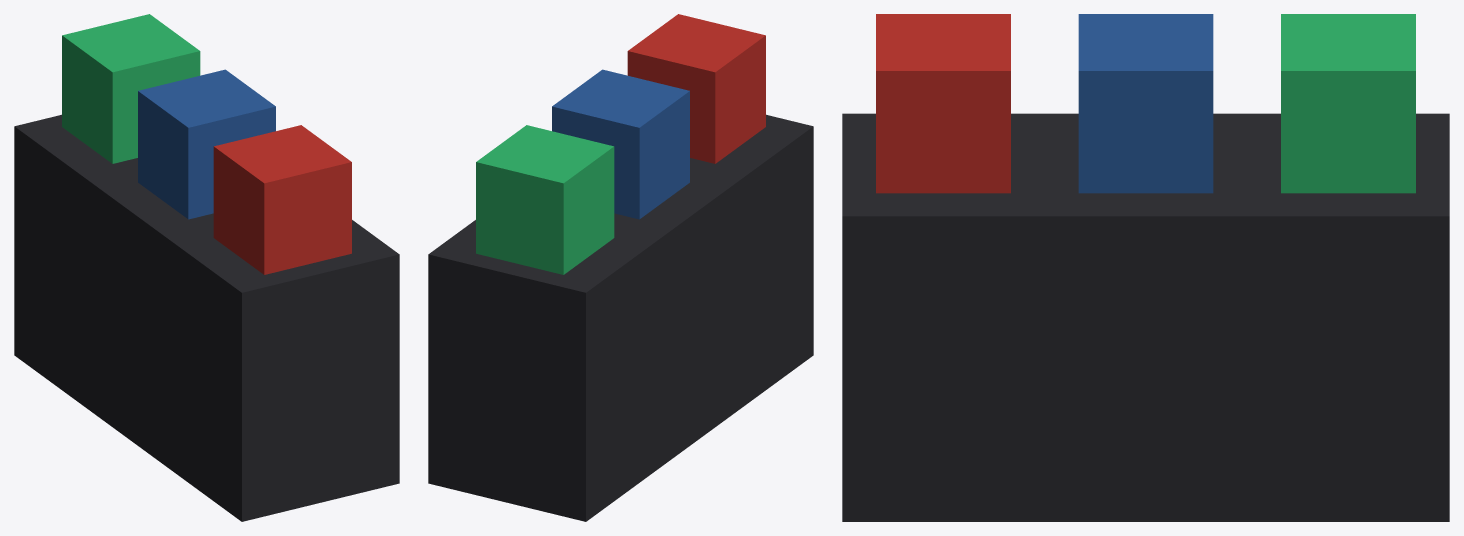
Rendered from lane_1.glb.
The picture shows the model from 3 angles, left to right: view 1: azimuth 30°, elevation 25°; view 2: azimuth 150°, elevation 25°; view 3: azimuth 270°, elevation 25°; orthographic projection. The views are drawn at different scales.
Visible parts, largest first — view 1: Box1, Box2, Box4, Box3; view 2: Box1, Box4, Box2, Box3; view 3: Box1, Box3, Box2, Box4.
Boxes of the visible parts, x1,y1,x2,y2 form: Box1: (14, 114, 399, 521); Box2: (213, 125, 351, 274); Box4: (62, 14, 200, 163); Box3: (138, 69, 275, 219); Box1: (428, 114, 813, 521); Box4: (476, 125, 614, 274); Box2: (627, 14, 765, 163); Box3: (552, 69, 689, 219); Box1: (842, 113, 1449, 521); Box3: (1078, 14, 1213, 193); Box2: (876, 14, 1010, 193); Box4: (1281, 14, 1415, 193).
Bounding box in the file's own units: 0.36 × 0.7 × 0.9.
